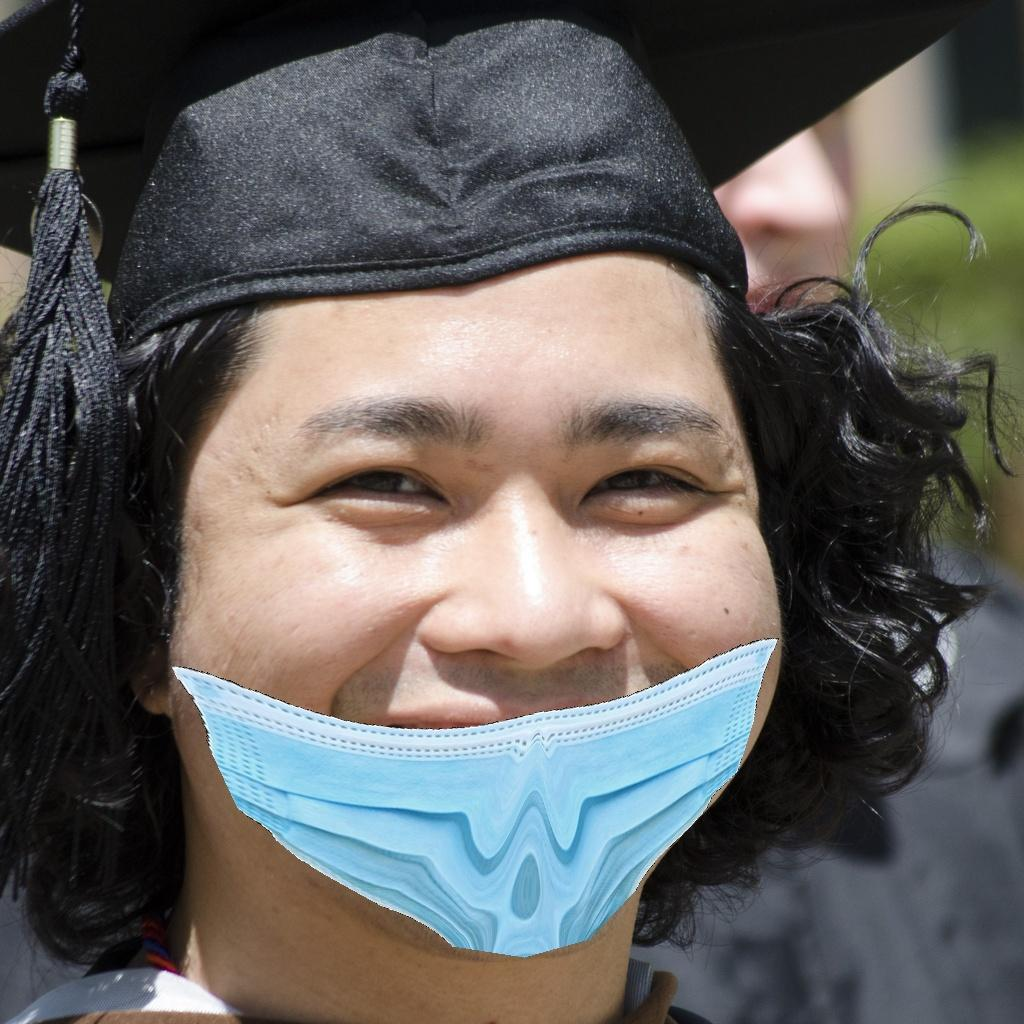Máscara Incorreta: (189, 330, 768, 911)
